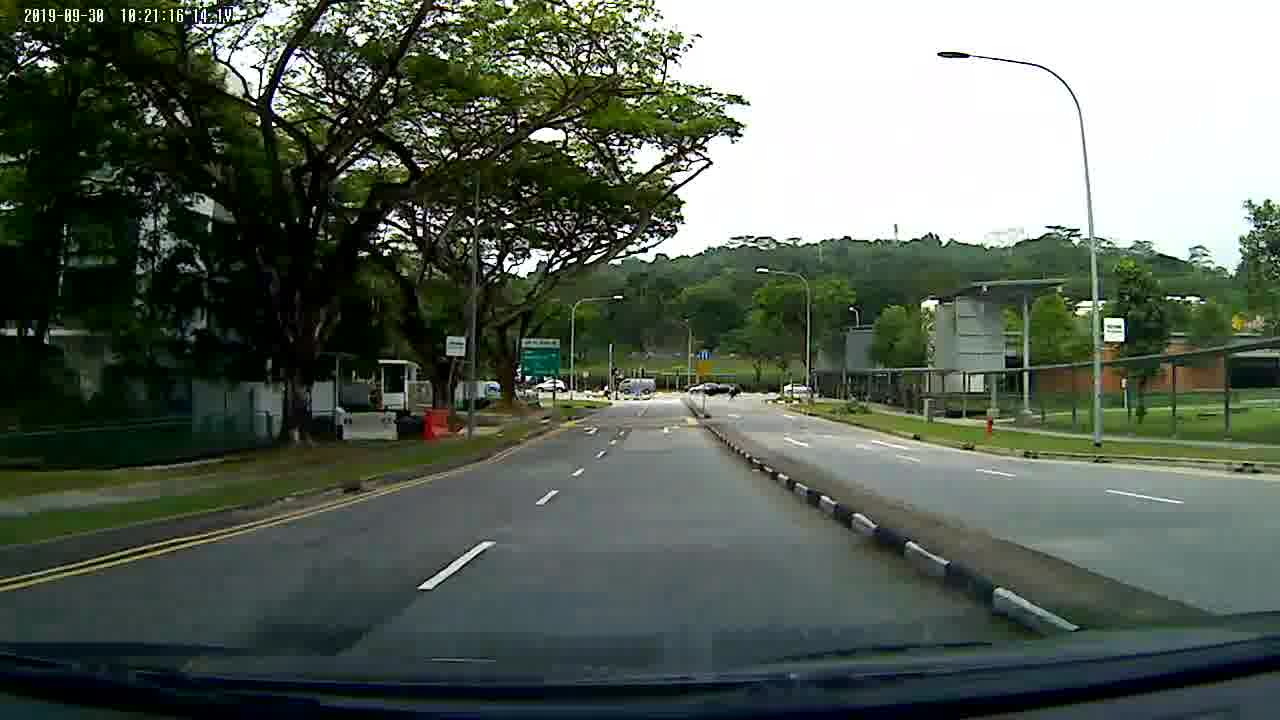car: (534, 378, 568, 394)
